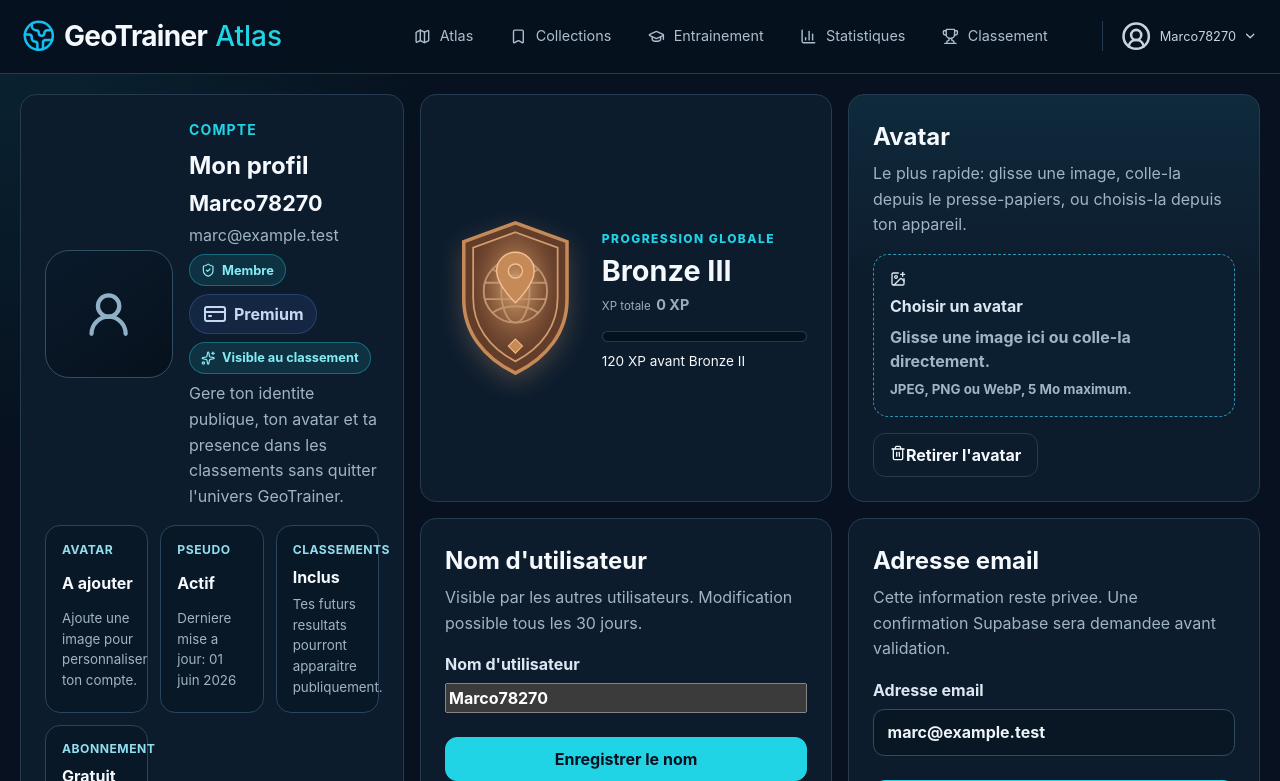
Scenario: ProfilePage › annonce qu'un email de confirmation va etre envoye
The image size is (1280, 781).
Replace the text in the field showing "marc@example.test" with "next@example.test". click: (1054, 732)
box: 873,709 -> 1235,756
(page scrolled)
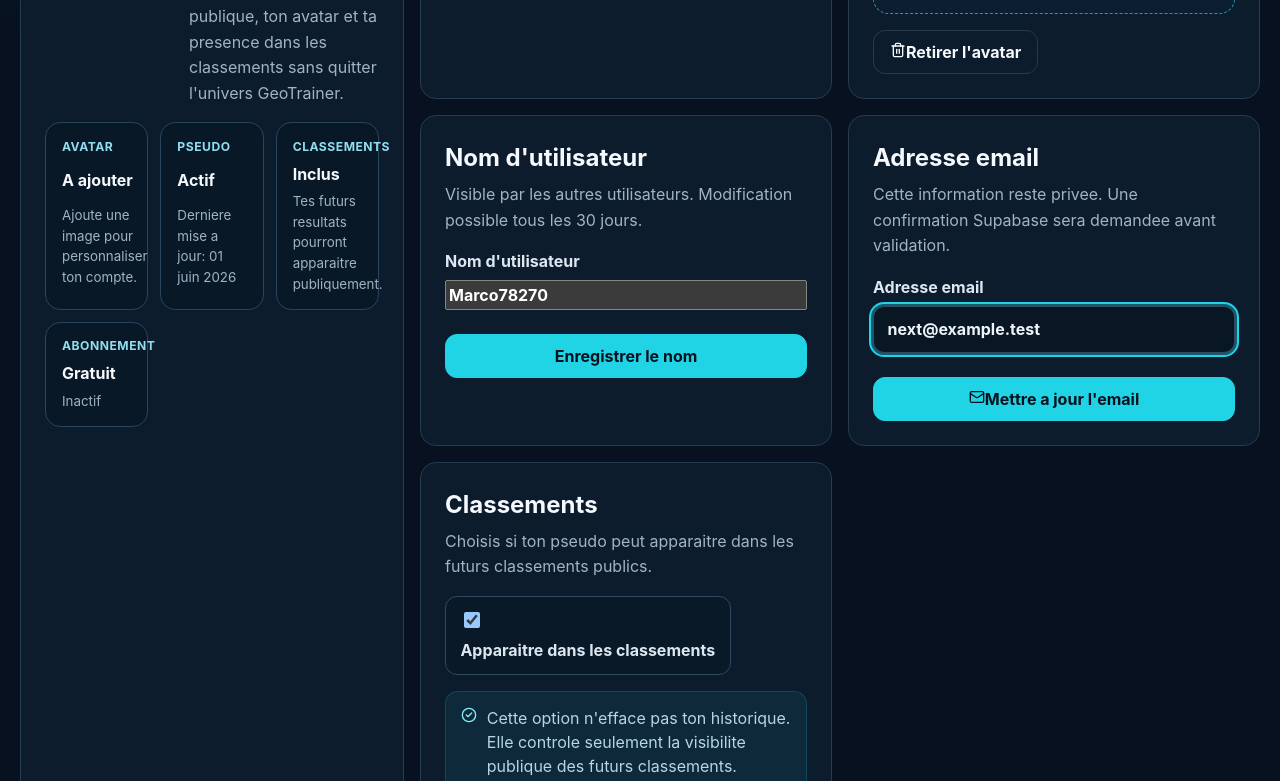
Click the button "Mettre a jour l'email". click: (1054, 399)
box: 873,377 -> 1235,421
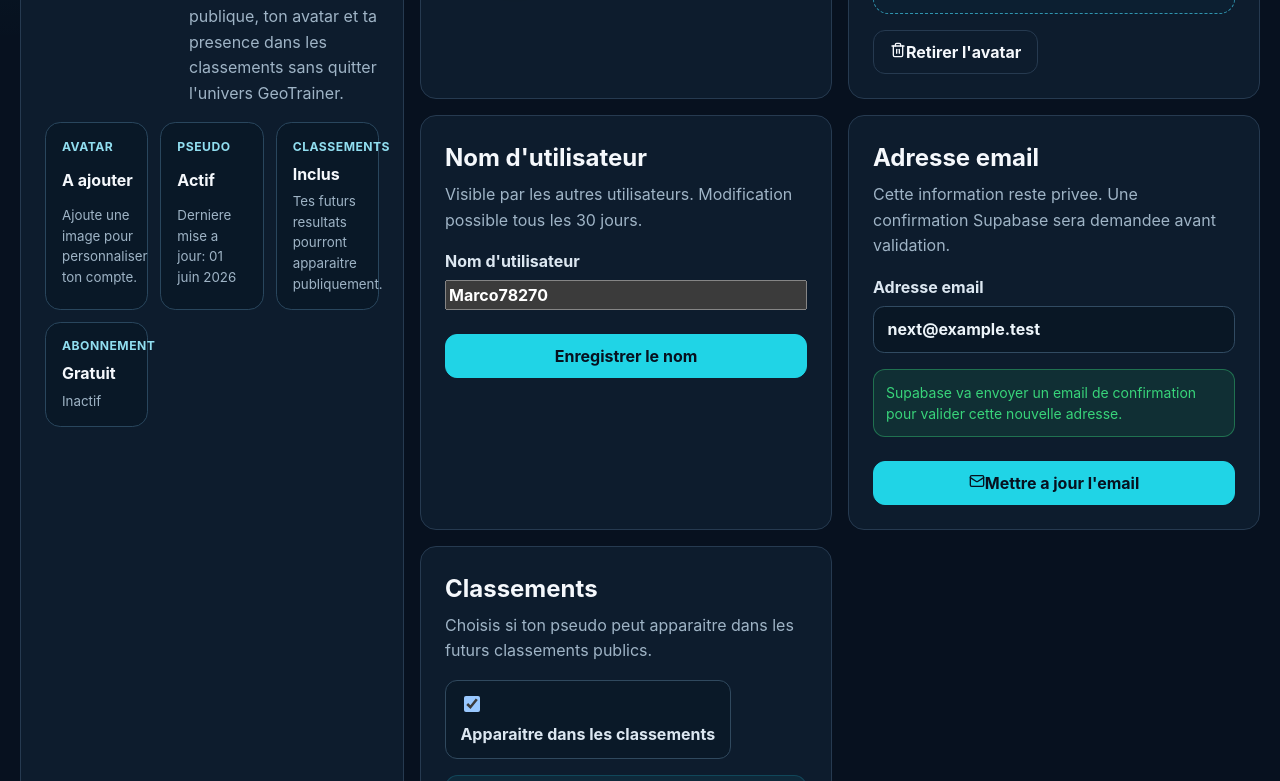
Now the text "Supabase va envoyer un email de confirmation" is shown, box 886,384 -> 1196,422
